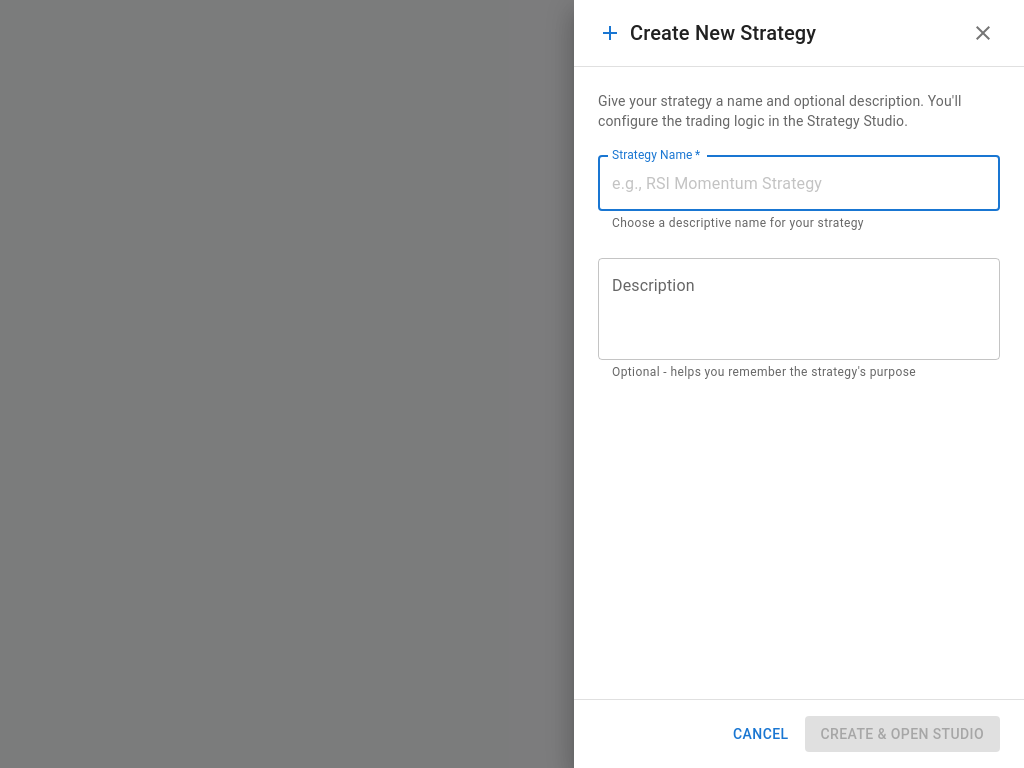
Scenario: StrategyNameDrawer › validation › enables submit button when name is entered
Type "My Strategy" into the field labelled "Strategy Name *" at (799, 183), box left=598, top=155, right=1000, bottom=211
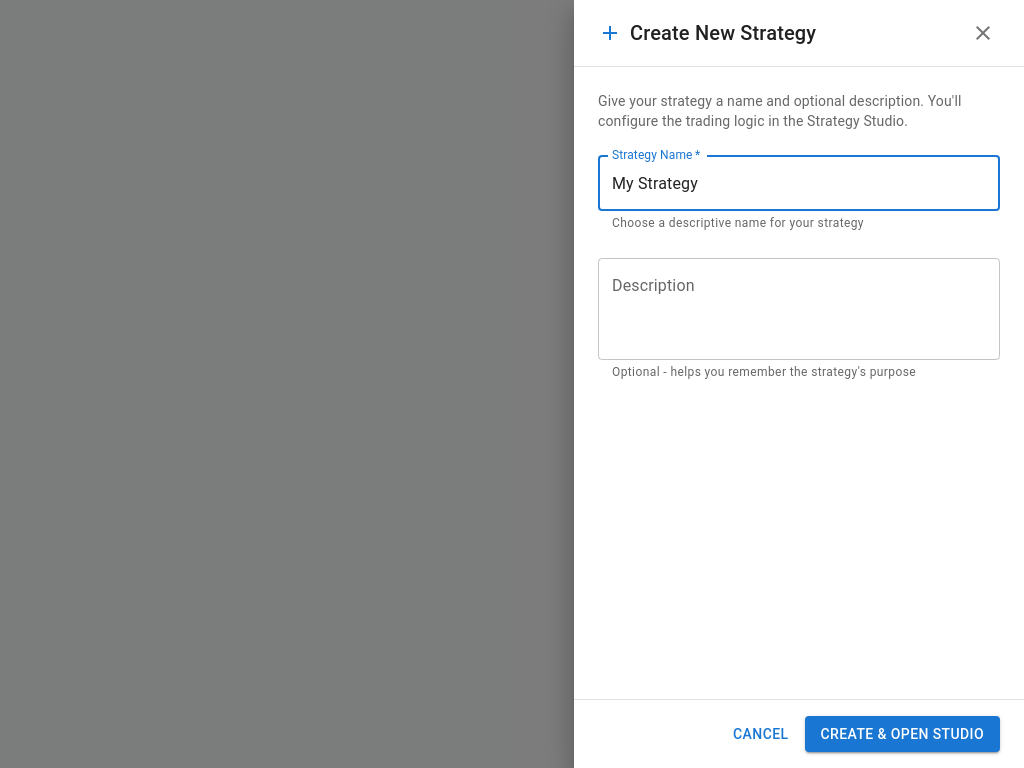
Now the button "Create & Open Studio" is enabled, box left=804, top=716, right=1000, bottom=752
